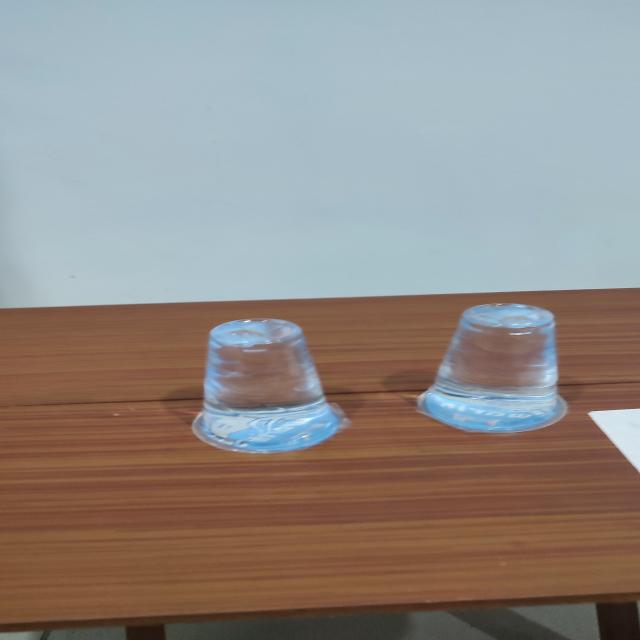air gelas: (195, 320, 354, 454), (421, 297, 571, 436)
